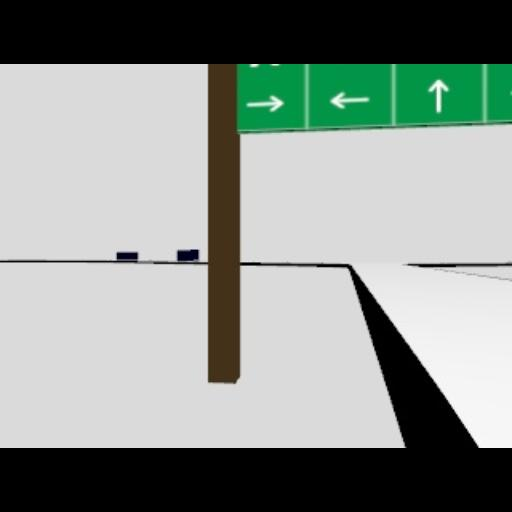Left: (326, 91, 370, 109)
Right: (245, 92, 287, 112)
Straight: (428, 78, 448, 112)
